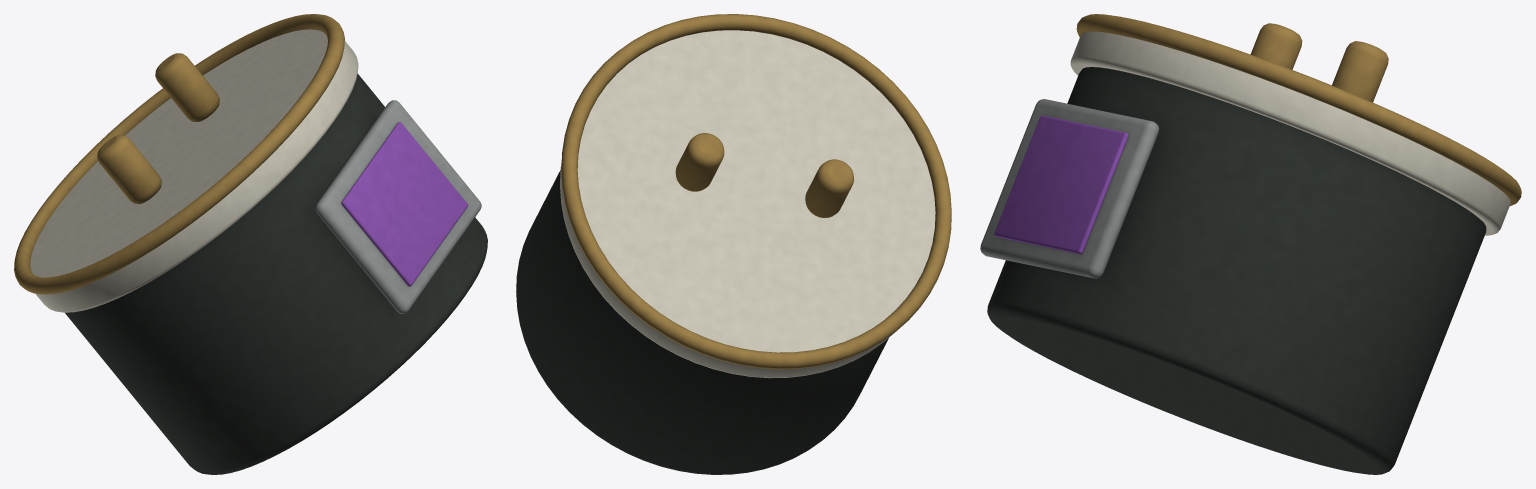
3 views of the same model, side by side, from view 1: azimuth 30°, elevation 25°; view 2: azimuth 150°, elevation 25°; view 3: azimuth 270°, elevation 25° (orthographic). The views are drawn at different scales.
Parts seen in each view (by area): view 1: Closed sample vessel; view 2: Closed sample vessel; view 3: Closed sample vessel.
Part boxes in pixels (x1=…): Closed sample vessel: x1=14, y1=14, x2=487, y2=474; Closed sample vessel: x1=516, y1=14, x2=951, y2=474; Closed sample vessel: x1=980, y1=14, x2=1521, y2=474.
Bounding box in the file's own units: 1.1 × 1.05 × 1.09.
Materials: 1 (1 with a texture image).
